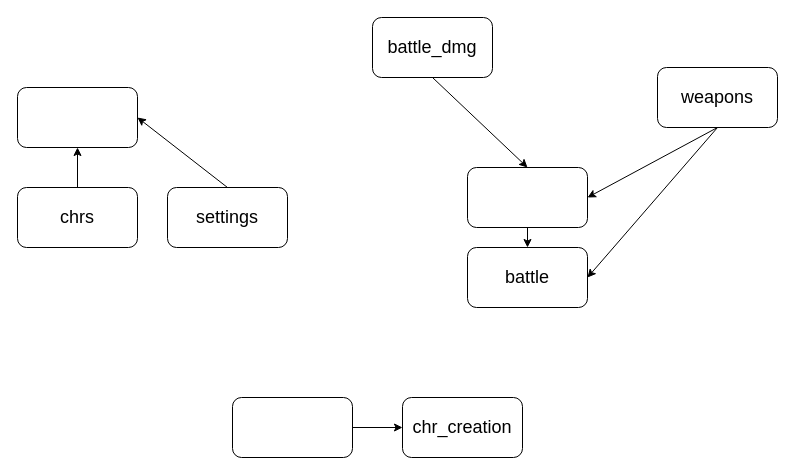
This 795x475 diagram has some shape labels left out. Each missing label, with the box of its shape:
ai_npc: (16, 86, 138, 148)
chr_stats: (466, 166, 588, 228)
main: (232, 396, 352, 458)
